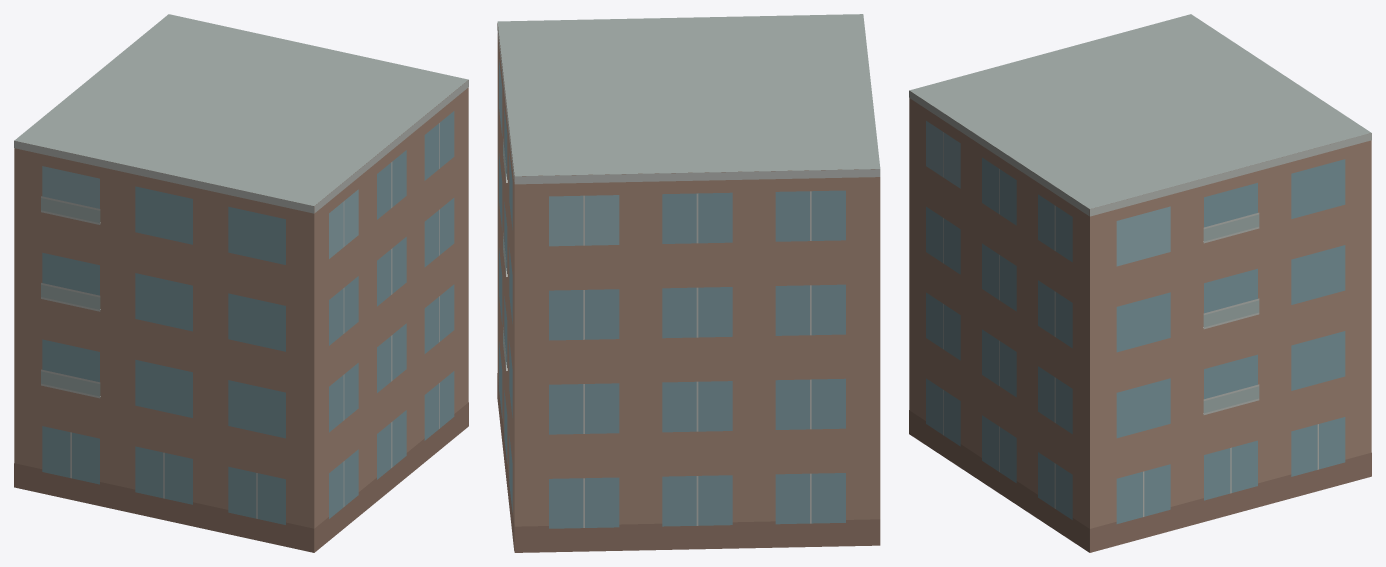
The model's file is survey-upis-32932981.glb.
3 views of the same model, side by side, from view 1: azimuth 30°, elevation 25°; view 2: azimuth 150°, elevation 25°; view 3: azimuth 270°, elevation 25° (orthographic). The views are drawn at different scales.
Parts seen in each view (by area): view 1: survey-upis-32932981.tmp; view 2: survey-upis-32932981.tmp; view 3: survey-upis-32932981.tmp.
Part boxes in pixels (left/top/right/bottom): survey-upis-32932981.tmp: left=14, top=14, right=468, bottom=552; survey-upis-32932981.tmp: left=497, top=14, right=880, bottom=552; survey-upis-32932981.tmp: left=909, top=14, right=1371, bottom=552.
Bounding box in the file's own units: 13.77 × 11.3 × 13.79.
